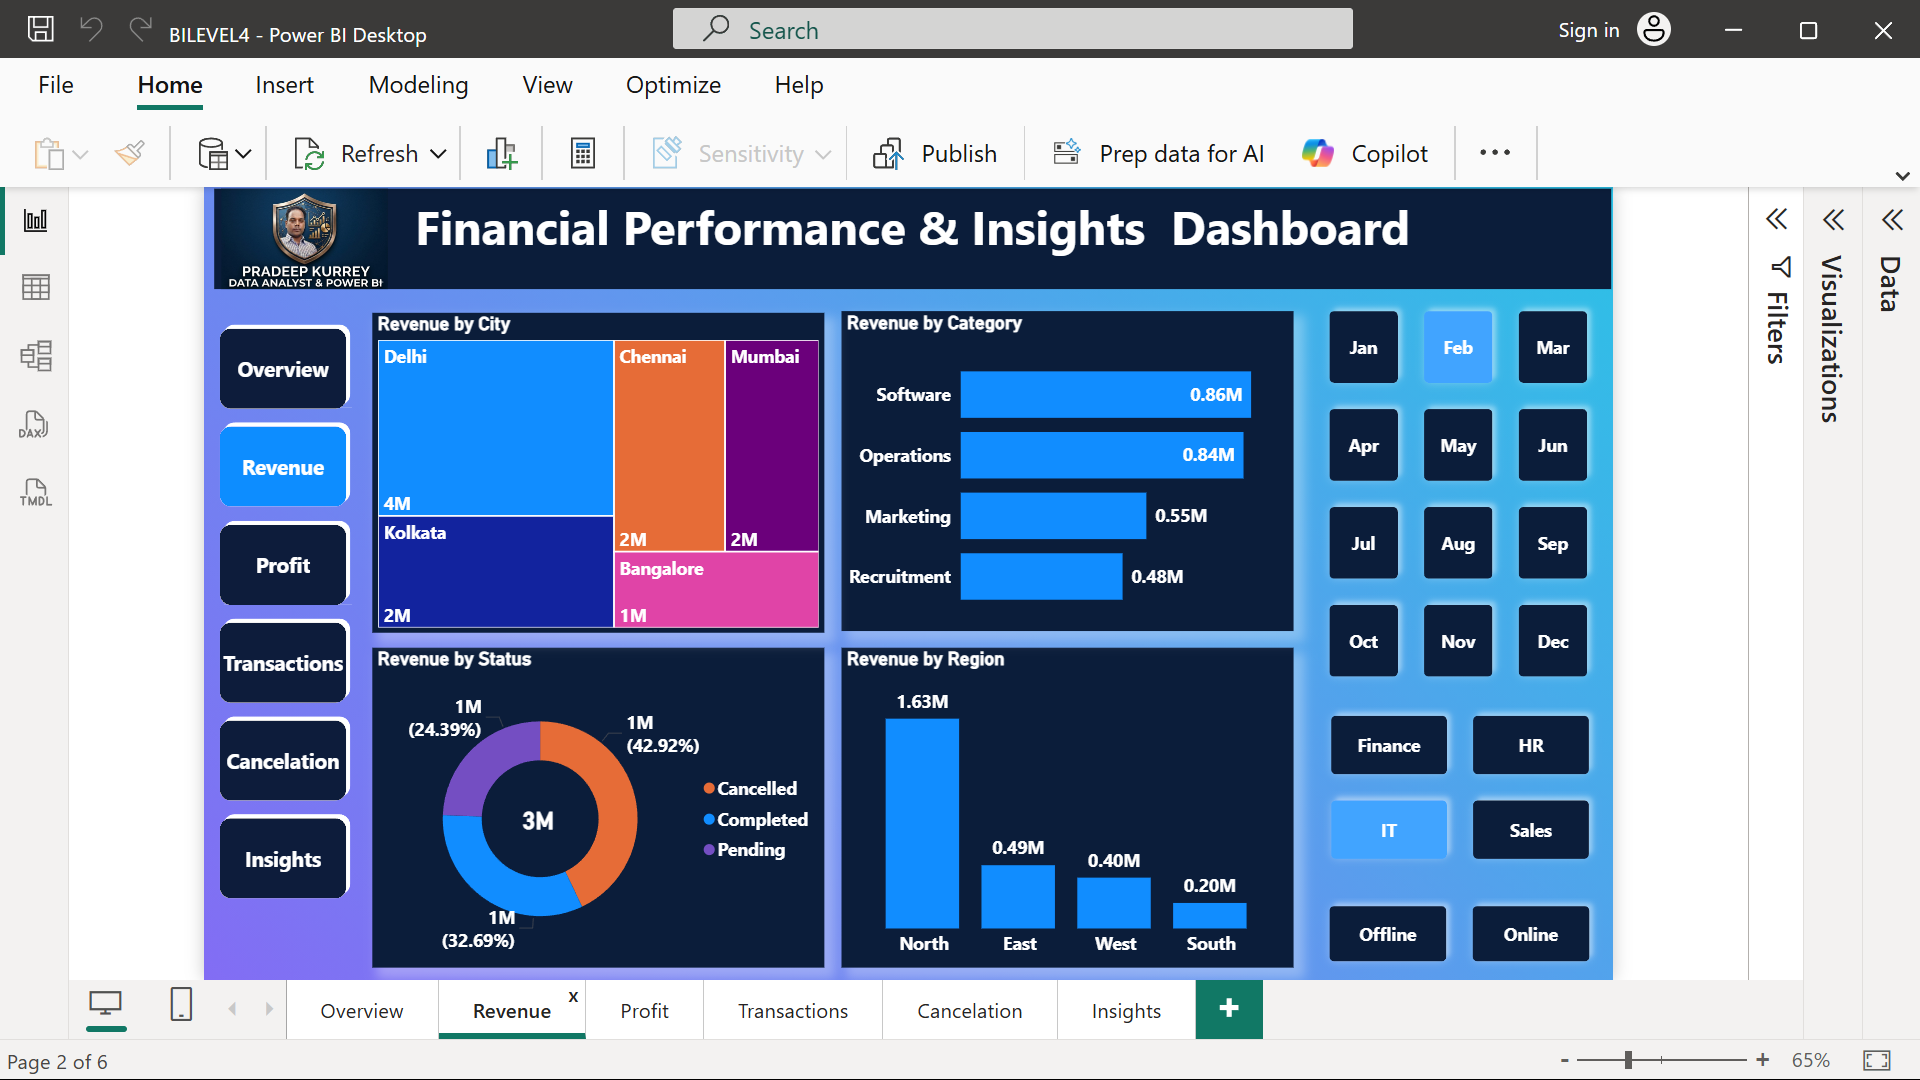

Layout of this report page (visuals, bound fields, positions):
{"tool":"powerbi","page":{"name":"Revenue","canvas":[1280,720],"ordinal":1},"visuals":[{"type":"group","id":"g1","title":"Group 1","box":[9,1.7,1268.9,91.1],"z":0},{"type":"textbox","box":[9,1.7,1268.9,91.1],"z":0,"group":"g1"},{"type":"image","box":[9,1.7,164.4,91.1],"z":1000,"group":"g1"},{"type":"advancedSlicerVisual","fields":{"Values":["Date Table.Month"]},"box":[1004.7,95.7,270.5,368],"z":1000},{"type":"advancedSlicerVisual","fields":{"Values":["Sheet1.Department"]},"box":[1006.5,463.7,268.6,165.6],"z":2000},{"type":"donutChart","title":"Revenue by Status","fields":{"Category":["Sheet1.Status"],"Y":["Date Table.sales2024"]},"box":[152.7,417.7,410.3,290.7],"z":3000},{"type":"clusteredColumnChart","title":"Revenue by Region","fields":{"Category":["Sheet1.Region"],"Y":["Date Table.sales2024"]},"box":[579.6,417.7,410.3,290.7],"z":4000},{"type":"clusteredBarChart","title":"Revenue by Category","fields":{"Category":["Sheet1.Category"],"Y":["Date Table.sales2024"]},"box":[579.6,112.2,410.3,290.7],"z":5000},{"type":"treemap","title":"Revenue by City","fields":{"Group":["Sheet1.City"],"Values":["Date Table.sales2024"]},"box":[152.7,114.1,410.3,290.7],"z":6000},{"type":"pageNavigator","box":[9.2,123.3,125.1,529.9],"z":7000},{"type":"advancedSlicerVisual","fields":{"Values":["Sheet1.Payment_Mode"]},"box":[1004.7,635.4,270.5,84.6],"z":8000},{"type":"card","fields":{"Values":["Date Table.sales2024"]},"box":[255.8,553.8,93.8,40.5],"z":9000}]}

Visuals, with their boxes on the page's 1280x720 design canvas (x1, y1, x2, y2). These are canvas units, not pixel positions in the 1920x1080 screenshot, which may show the page scaled, cropped or inside an application window:
"Group 1" group: <box>9,2,1278,93</box>
textbox: <box>9,2,1278,93</box>
image: <box>9,2,173,93</box>
advancedSlicerVisual - Date Table.Month: <box>1005,96,1275,464</box>
advancedSlicerVisual - Sheet1.Department: <box>1006,464,1275,629</box>
"Revenue by Status" donutChart: <box>153,418,563,708</box>
"Revenue by Region" clusteredColumnChart: <box>580,418,990,708</box>
"Revenue by Category" clusteredBarChart: <box>580,112,990,403</box>
"Revenue by City" treemap: <box>153,114,563,405</box>
pageNavigator: <box>9,123,134,653</box>
advancedSlicerVisual - Sheet1.Payment_Mode: <box>1005,635,1275,720</box>
card - Date Table.sales2024: <box>256,554,350,594</box>
